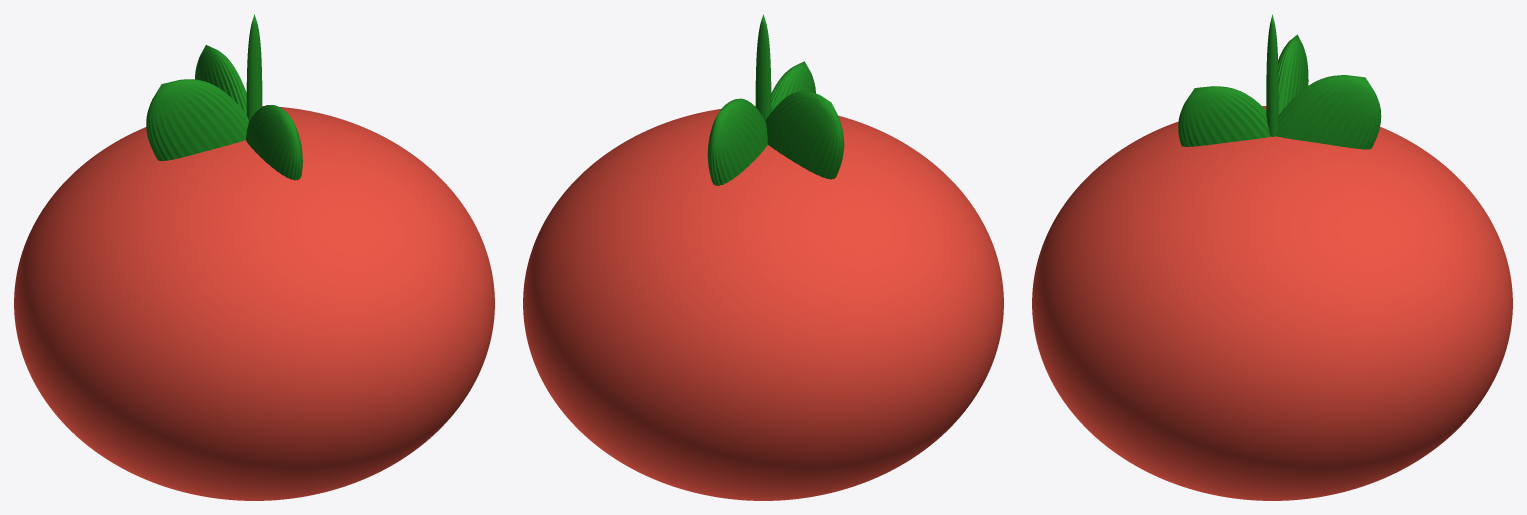
File: TomatoDart.fbx
3 renders of one model, left to right at view 1: azimuth 30°, elevation 25°; view 2: azimuth 150°, elevation 25°; view 3: azimuth 270°, elevation 25°, orthographic.
Parts seen in each view (by area): view 1: Cylinder.002; view 2: Cylinder.002; view 3: Cylinder.002.
Part boxes in pixels (left/top/right/bottom): Cylinder.002: left=14, top=14, right=494, bottom=500; Cylinder.002: left=523, top=14, right=1003, bottom=500; Cylinder.002: left=1032, top=14, right=1512, bottom=500.
Bounding box in the file's own units: 217 × 229 × 217.
